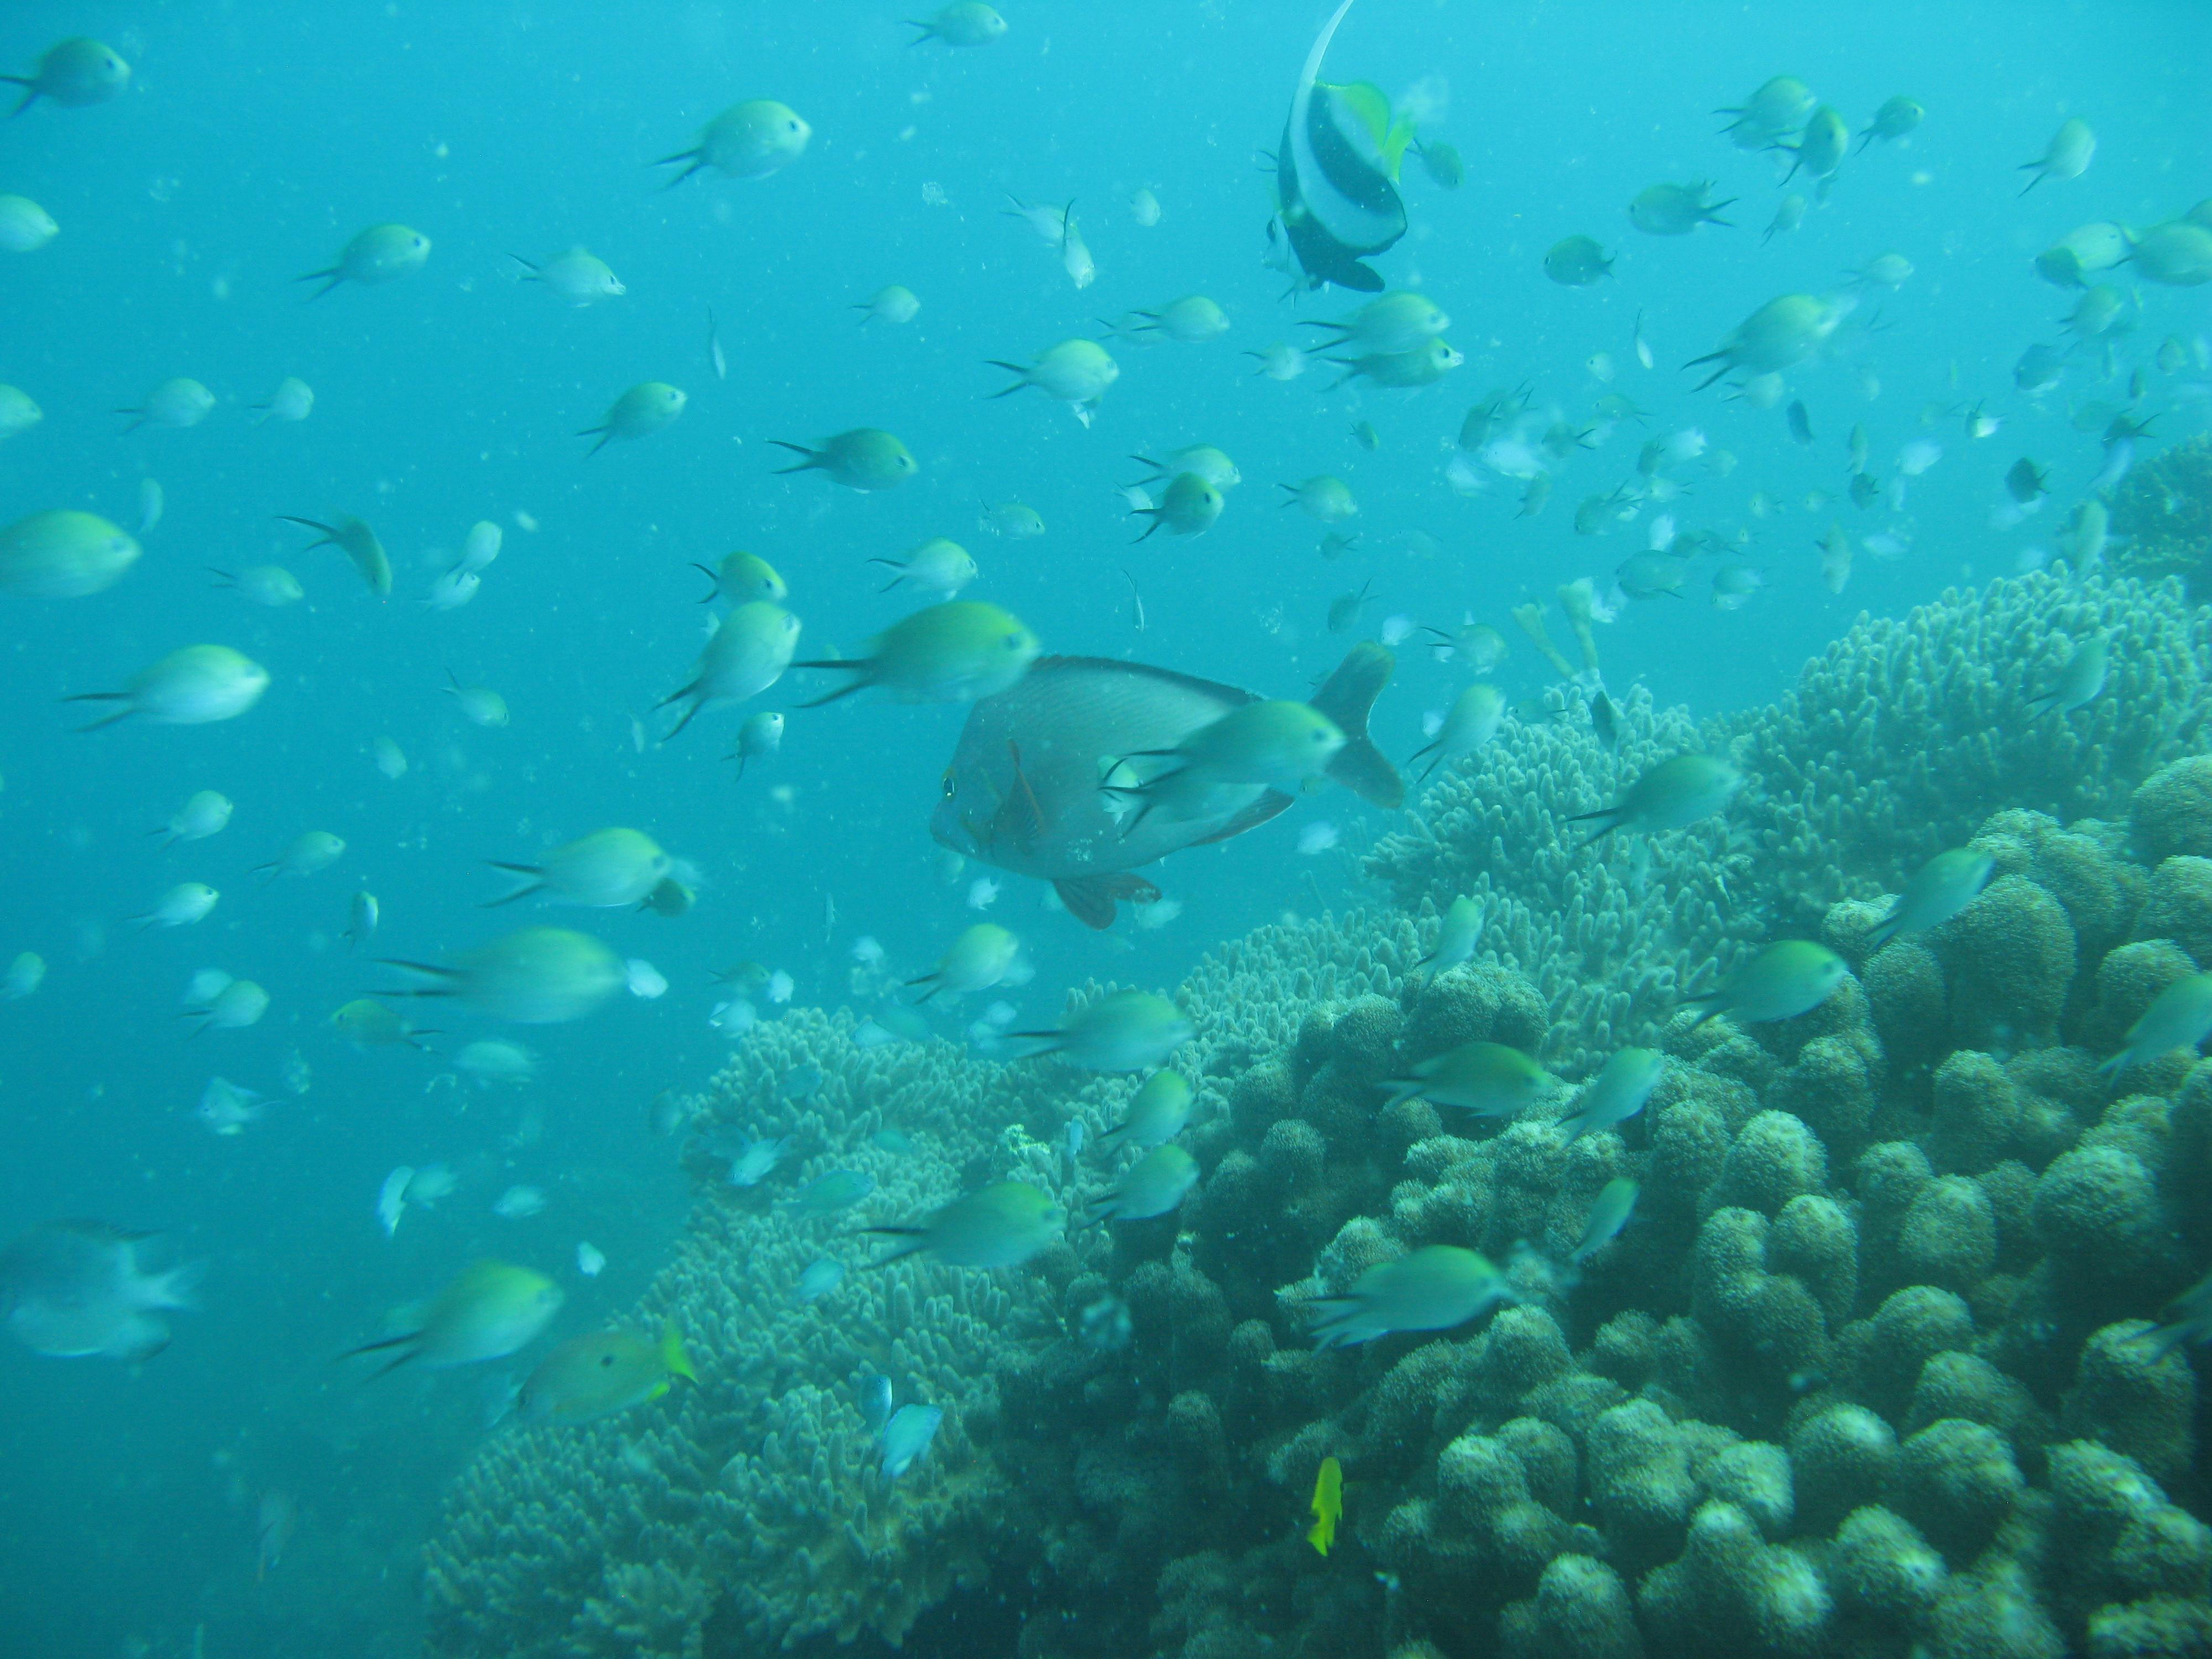Chromis ternatensis: (1251, 1225, 1540, 1371), (273, 1263, 582, 1398), (1118, 683, 1399, 824), (64, 624, 320, 770), (799, 586, 1076, 720), (1552, 744, 1796, 884), (846, 1182, 1094, 1312), (641, 64, 841, 213), (1634, 917, 1872, 1037), (460, 816, 702, 932), (5, 3, 172, 155), (979, 985, 1240, 1080), (1665, 291, 1862, 411), (766, 408, 958, 523), (475, 213, 660, 328), (277, 206, 451, 321), (1275, 291, 1494, 373), (869, 0, 1075, 80), (561, 373, 695, 474), (1118, 467, 1245, 563), (991, 333, 1130, 415), (113, 875, 240, 950)
